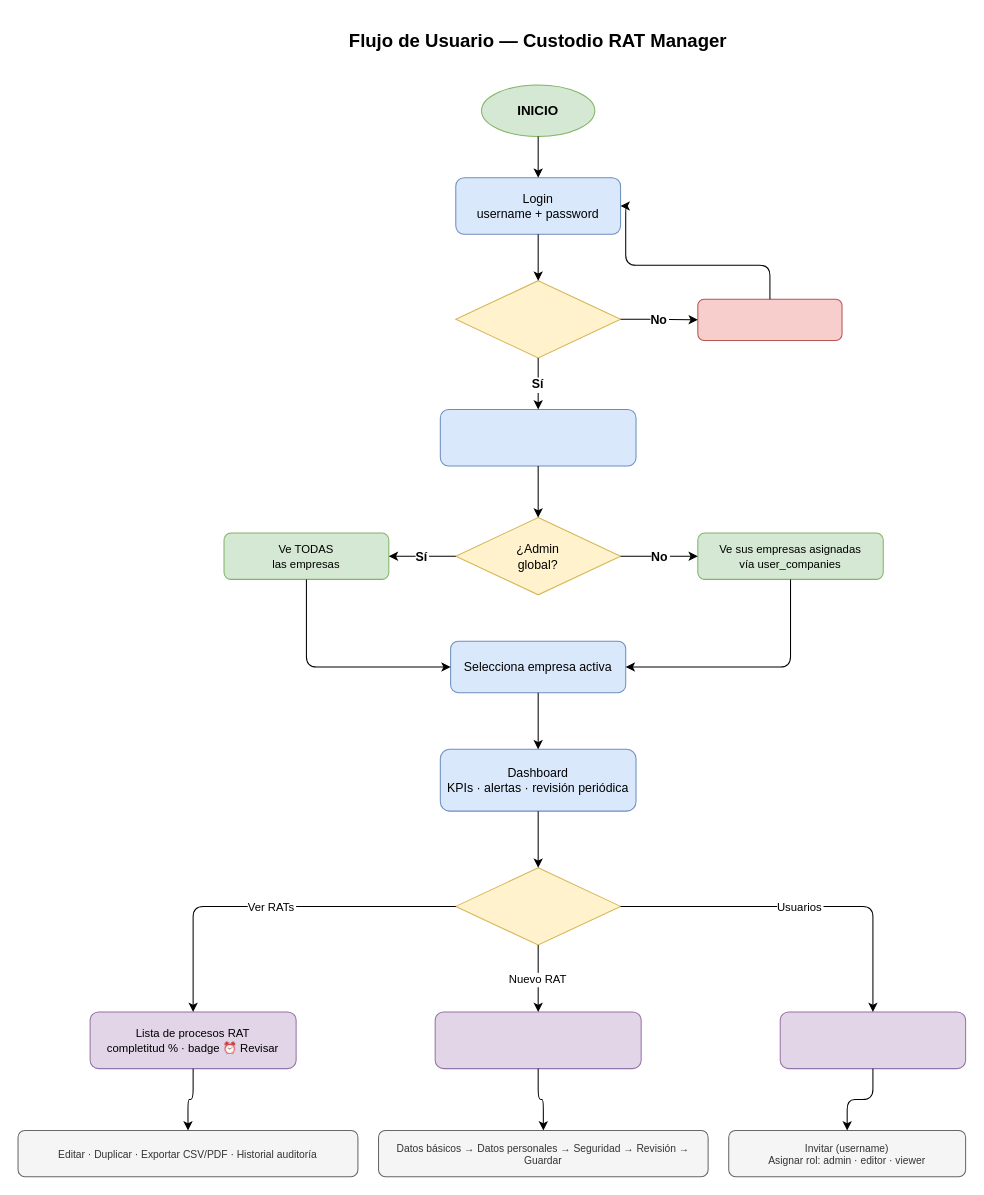
Image size: 984x1195. Some labels were removed from this diagram. Each missing label, with the centre of its shape:
Mostrar error: point 769,319
Panel de accesos (solo admin global): point 872,1040
Recibe JWT + datos de sesión Persiste en localStorage: point 537,437
Wizard 4 pasos nuevo proceso RAT: point 537,1040
¿Credenciales válidas?: point 538,319
¿Qué acción?: point 538,906
